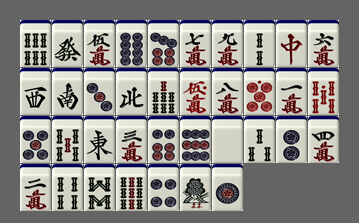0m: (180, 68, 211, 115)
0p: (244, 68, 275, 115)
0s: (308, 68, 339, 115)
1m: (276, 68, 307, 115)
1p: (212, 164, 243, 211)
1s: (180, 164, 211, 211)
1z: (84, 116, 115, 163)
2m: (20, 164, 51, 211)
2p: (276, 116, 307, 163)
2s: (244, 20, 275, 67)
2z: (52, 68, 83, 115)
3m: (116, 116, 147, 163)
3p: (84, 68, 115, 115)
3s: (244, 116, 275, 163)
3z: (20, 68, 51, 115)
4m: (308, 116, 339, 163)
4p: (148, 164, 179, 211)
4s: (52, 164, 83, 211)
4z: (116, 68, 147, 115)
5m: (84, 20, 115, 67)
5p: (20, 116, 51, 163)
5s: (52, 116, 83, 163)
5z: (212, 116, 243, 163)
6m: (308, 20, 339, 67)
6p: (148, 116, 179, 163)
6s: (20, 20, 51, 67)
6z: (52, 20, 83, 67)
7m: (180, 20, 211, 67)
7p: (148, 20, 179, 67)
7s: (148, 68, 179, 115)
7z: (276, 20, 307, 67)
8m: (212, 68, 243, 115)
8p: (116, 20, 147, 67)
8s: (84, 164, 115, 211)
9m: (212, 20, 243, 67)
9p: (180, 116, 211, 163)
9s: (116, 164, 147, 211)
